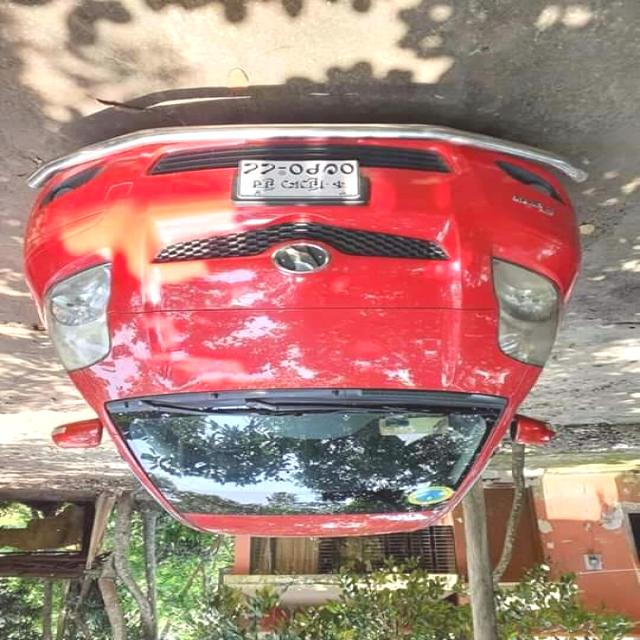red: (32, 105, 579, 530)
